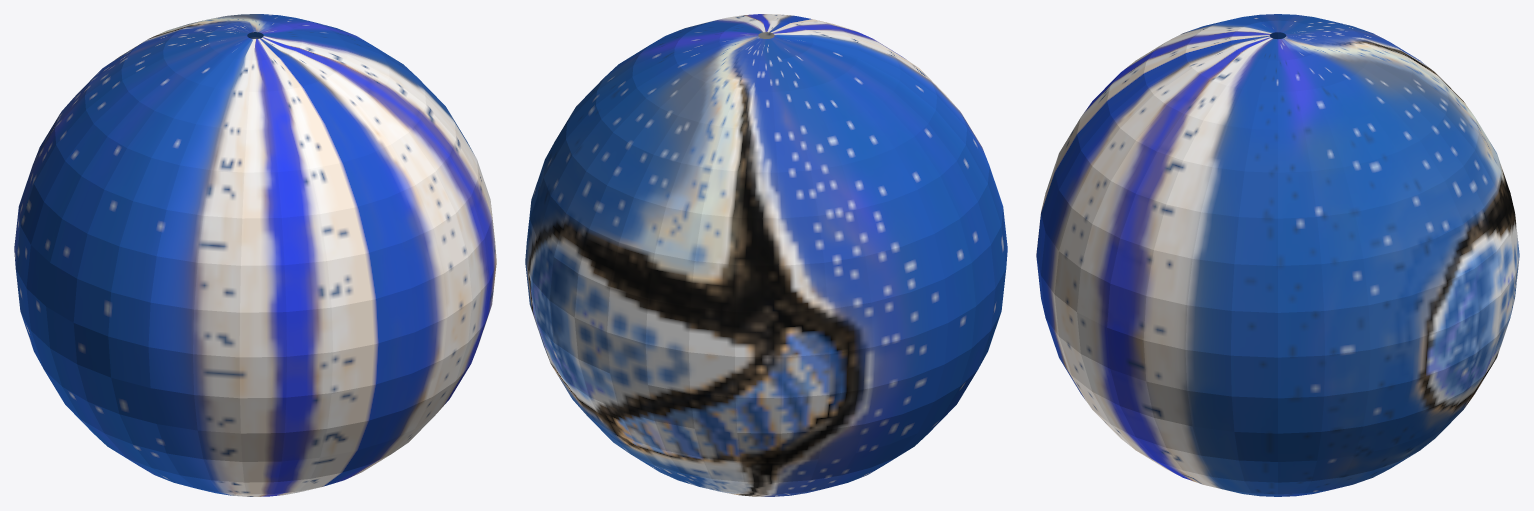
Rendered from globe.fbx.
3 views of the same model, side by side, from view 1: azimuth 30°, elevation 25°; view 2: azimuth 150°, elevation 25°; view 3: azimuth 270°, elevation 25° (orthographic).
Visible parts, largest first — view 1: Sphere; view 2: Sphere; view 3: Sphere.
Boxes of the visible parts, x1=… form: Sphere: x1=14, y1=14, x2=496, y2=496; Sphere: x1=525, y1=14, x2=1007, y2=496; Sphere: x1=1036, y1=14, x2=1519, y2=496.
Bounding box in the file's own units: 3 × 3 × 3.01.
